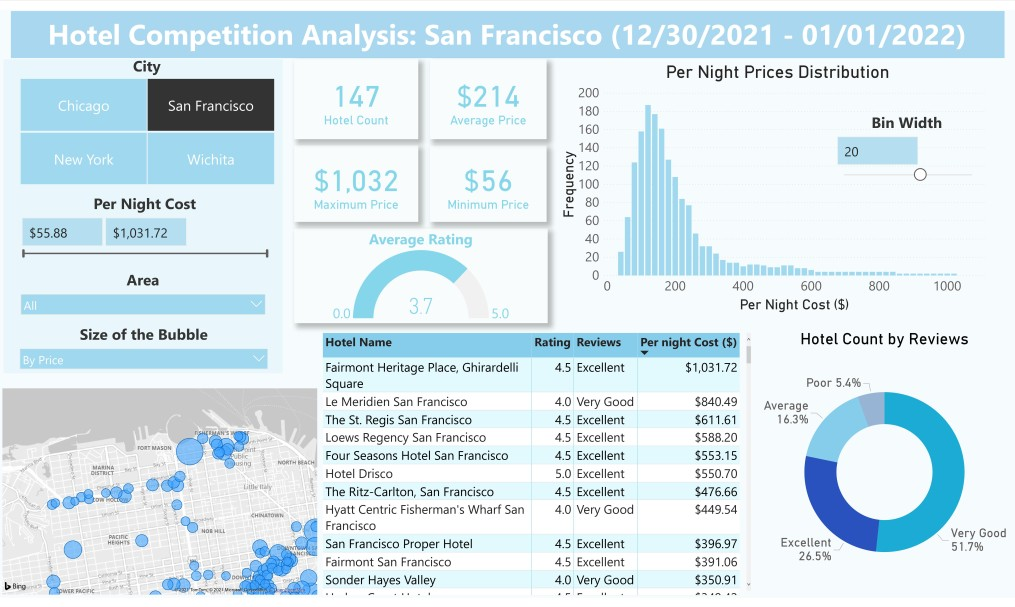

What the dashboard file says about the page in this screenshot:
{"tool":"powerbi","page":{"name":"City level summary","canvas":[2070,1200],"ordinal":2},"visuals":[{"type":"basicShape","box":[0,0,2070.7,101],"z":0},{"type":"card","fields":{"Values":["Hotel_DF.Title"]},"box":[30.3,0,2008.1,92.9],"z":1000},{"type":"card","fields":{"Values":["Hotel_DF.HotelCount"]},"box":[599.8,101.5,252.7,162.9],"z":2000},{"type":"card","fields":{"Values":["Hotel_DF.Lowest Price"]},"box":[876,276.3,238.5,155.8],"z":3000},{"type":"card","fields":{"Values":["Hotel_DF.Max Price"]},"box":[599.8,276.3,252.7,155.8],"z":4000},{"type":"card","fields":{"Values":["Hotel_DF.Average Price"]},"box":[876,101.5,238.5,162.9],"z":5000},{"type":"gauge","title":"Average Rating","fields":{"Y":["Avg(Hotel_DF.Rating)"]},"box":[599.7,446.5,516.6,192.6],"z":6000},{"type":"map","fields":{"Y":["Hotel_DF.lat"],"X":["Hotel_DF.lon"],"Size":["Metrics.Selection"]},"box":[0,768.3,652.3,431.2],"z":7000},{"type":"columnChart","title":"Per Night Prices Distribution","fields":{"Category":["my bins.bin from"],"Y":["my bins._histogram values"]},"box":[1136,105.1,901.8,516.6],"z":8000},{"type":"slicer","title":"Bin Width","fields":{"Values":["Histogram bins.Histogram bins"]},"box":[1694.9,208.1,309.1,155.6],"z":9000},{"type":"donutChart","title":"Hotel Count by Reviews","fields":{"Y":["Hotel_DF.HotelCount"],"Category":["Hotel_DF.Reviews"]},"box":[1537.4,652.5,533.3,545.5],"z":10000},{"type":"basicShape","box":[0,92.3,583.7,656.7],"z":11000},{"type":"slicer","title":"Per Night Cost","fields":{"Values":["Hotel_DF.PerNightCost"]},"box":[31.5,374.1,525.9,175.9],"z":12000},{"type":"slicer","title":"City","fields":{"Values":["Hotel_DF.Area"]},"box":[16.7,92.6,566.7,270.4],"z":13000},{"type":"slicer","title":"Area","fields":{"Values":["Hotel_DF.Location"]},"box":[31.5,529.6,518.5,109.3],"z":14000},{"type":"tableEx","fields":{"Values":["Hotel_DF.Name","Hotel_DF.Rating","Hotel_DF.Reviews","Avg(Hotel_DF.PerNightCost)"]},"box":[652.3,654.5,884.3,545],"z":15000},{"type":"slicer","title":"Size of the Bubble","fields":{"Values":["Metrics.Column1"]},"box":[30,639.5,525.8,128.8],"z":18000}]}

Visuals, with their boxes on the page's 2070x1200 design canvas (x1, y1, x2, y2). These are canvas units, not pixel positions in the 1015x607 screenshot, which may show the page scaled, cropped or inside an application window:
basicShape: detection(0, 0, 2071, 101)
card - Hotel_DF.Title: detection(30, 0, 2038, 93)
card - Hotel_DF.HotelCount: detection(600, 102, 852, 264)
card - Hotel_DF.Lowest Price: detection(876, 276, 1114, 432)
card - Hotel_DF.Max Price: detection(600, 276, 852, 432)
card - Hotel_DF.Average Price: detection(876, 102, 1114, 264)
"Average Rating" gauge: detection(600, 446, 1116, 639)
map - Hotel_DF.lat x Hotel_DF.lon: detection(0, 768, 652, 1200)
"Per Night Prices Distribution" columnChart: detection(1136, 105, 2038, 622)
"Bin Width" slicer: detection(1695, 208, 2004, 364)
"Hotel Count by Reviews" donutChart: detection(1537, 652, 2071, 1198)
basicShape: detection(0, 92, 584, 749)
"Per Night Cost" slicer: detection(32, 374, 557, 550)
"City" slicer: detection(17, 93, 583, 363)
"Area" slicer: detection(32, 530, 550, 639)
tableEx - Hotel_DF.Name x Hotel_DF.Rating: detection(652, 654, 1537, 1200)
"Size of the Bubble" slicer: detection(30, 640, 556, 768)
